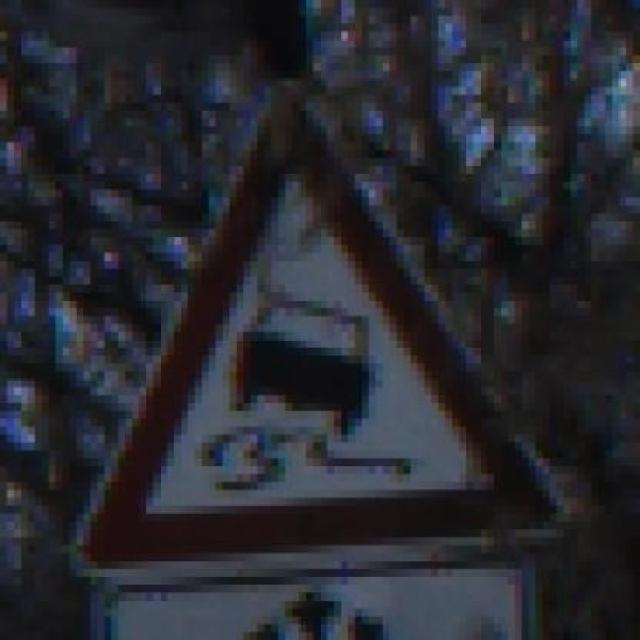Slippery Road Ahead: (48, 86, 584, 569)
